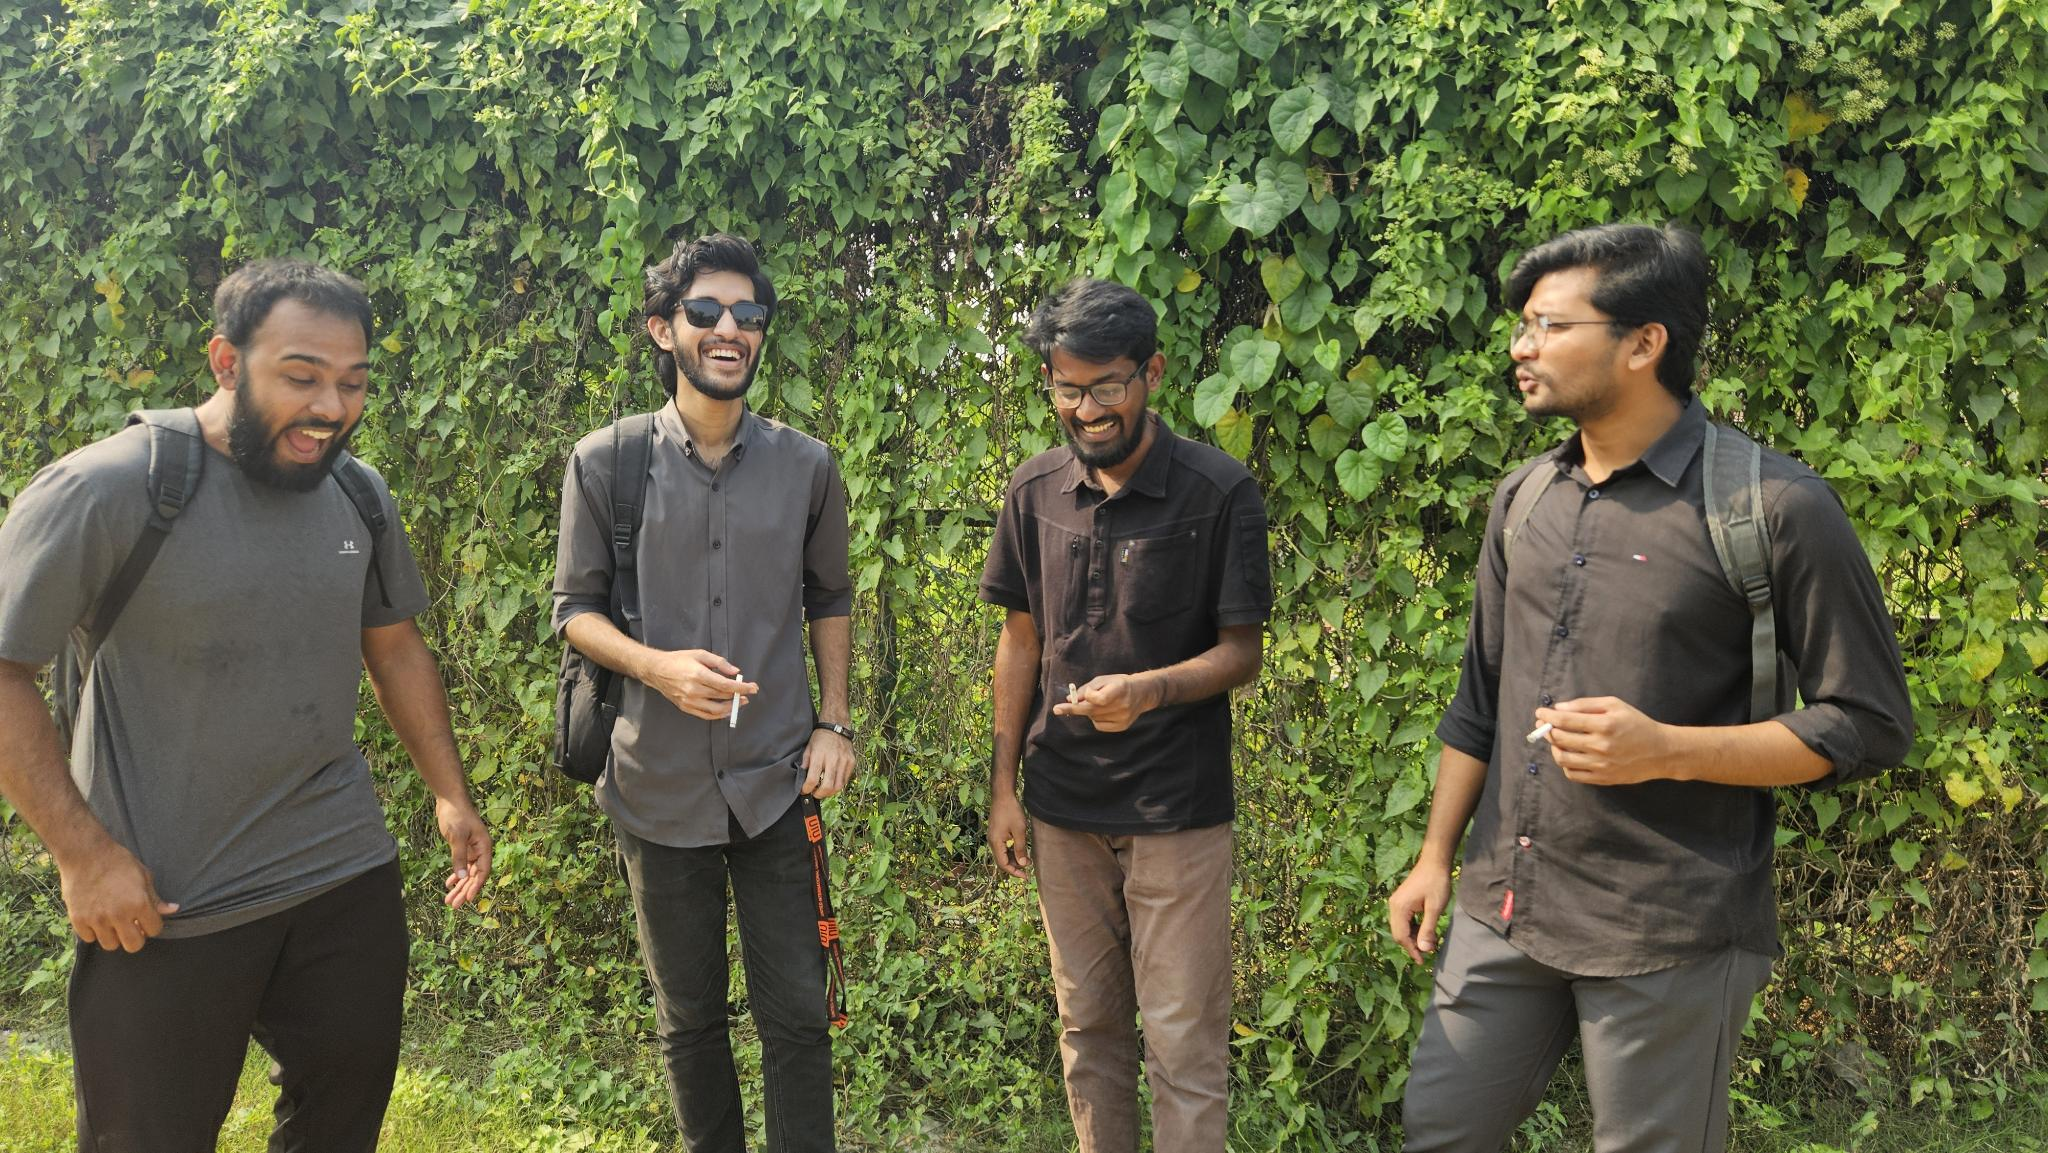cigarette: (729, 672, 744, 730), (1523, 720, 1554, 745), (1066, 681, 1079, 707)
nonSmoker: (0, 257, 492, 1152)
smoker: (1387, 225, 1914, 1153), (551, 236, 857, 1153), (979, 278, 1273, 1139)
